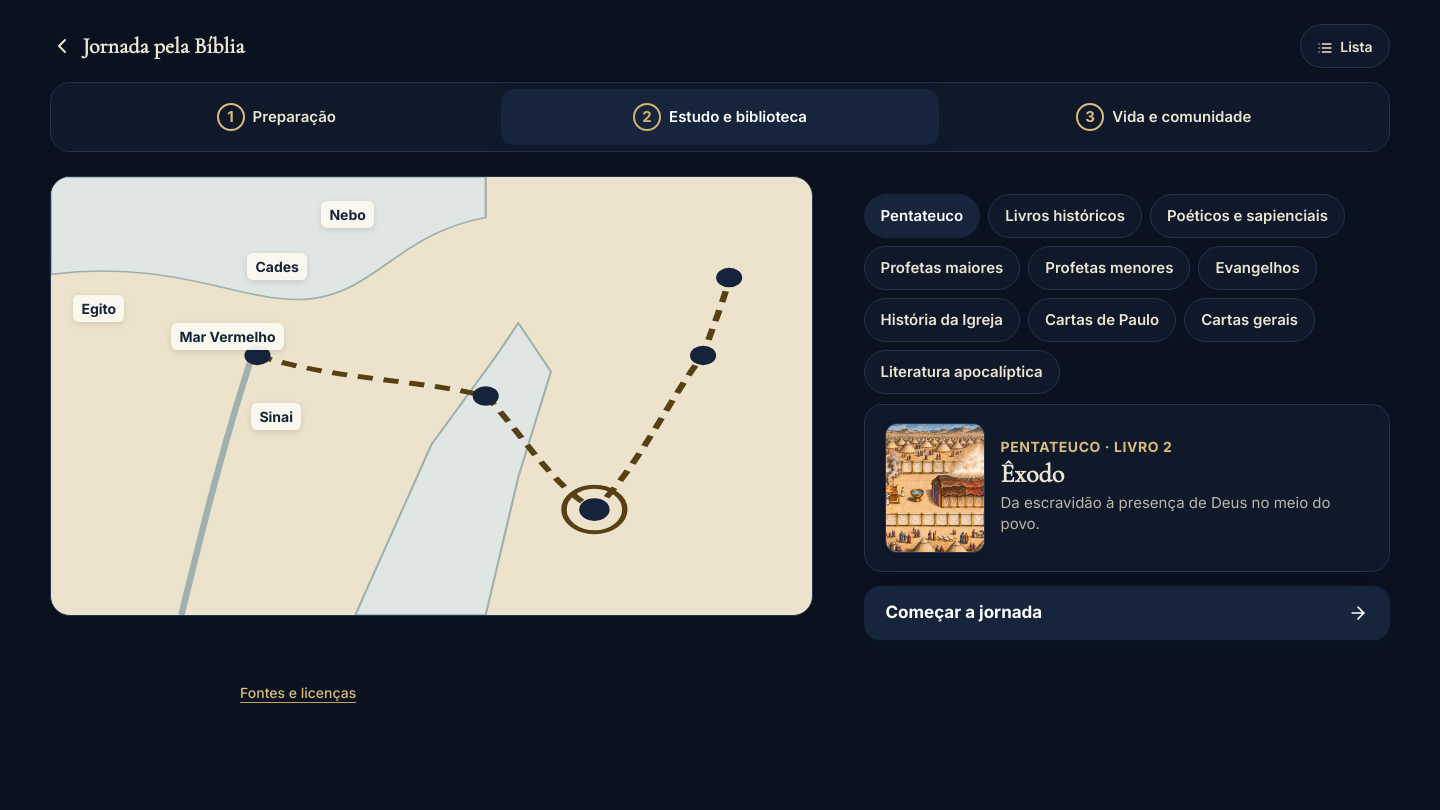
it: Jornada pela Bíblia (Modelo Trilha Arredondado) › permite alternar entre o modo Trilha e o modo Lista
This screenshot has width=1440, height=810.
Click the button "Lista": click(1345, 46) 1300,24 -> 1390,68
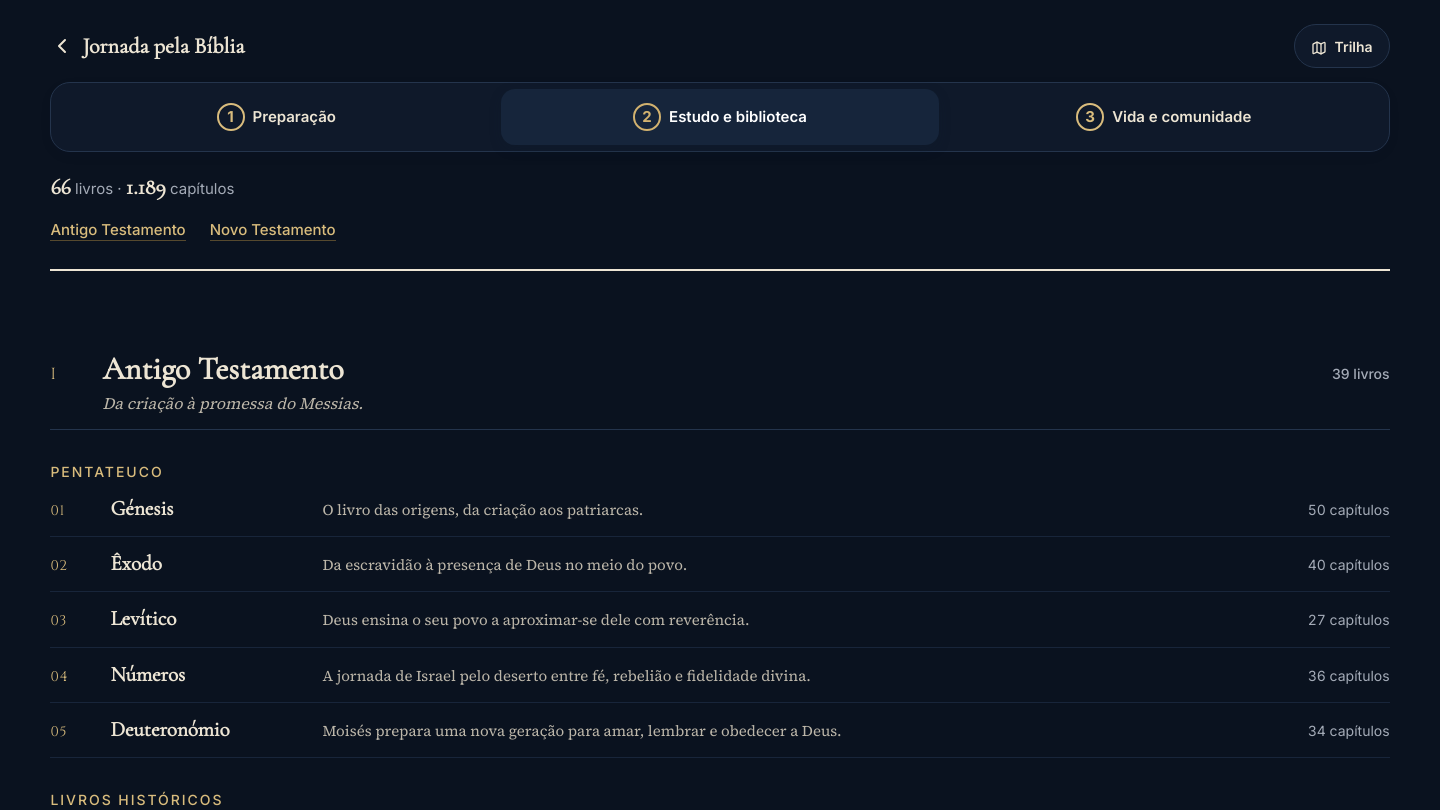
Result: the button "Trilha" is shown at 1294,24 -> 1390,68
Result: the text "1.189" is shown at 126,174 -> 166,200
